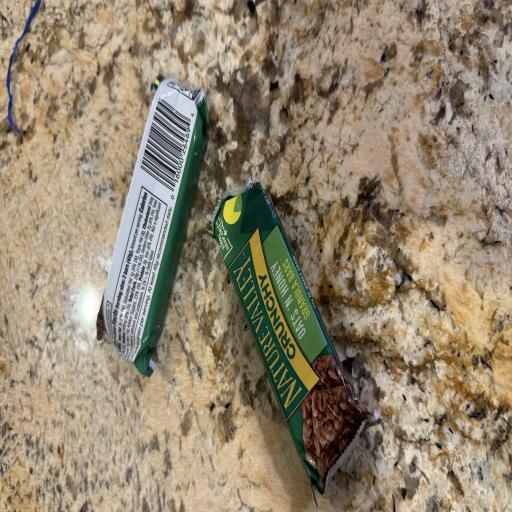granola: (212, 180, 379, 492), (97, 77, 209, 376)
